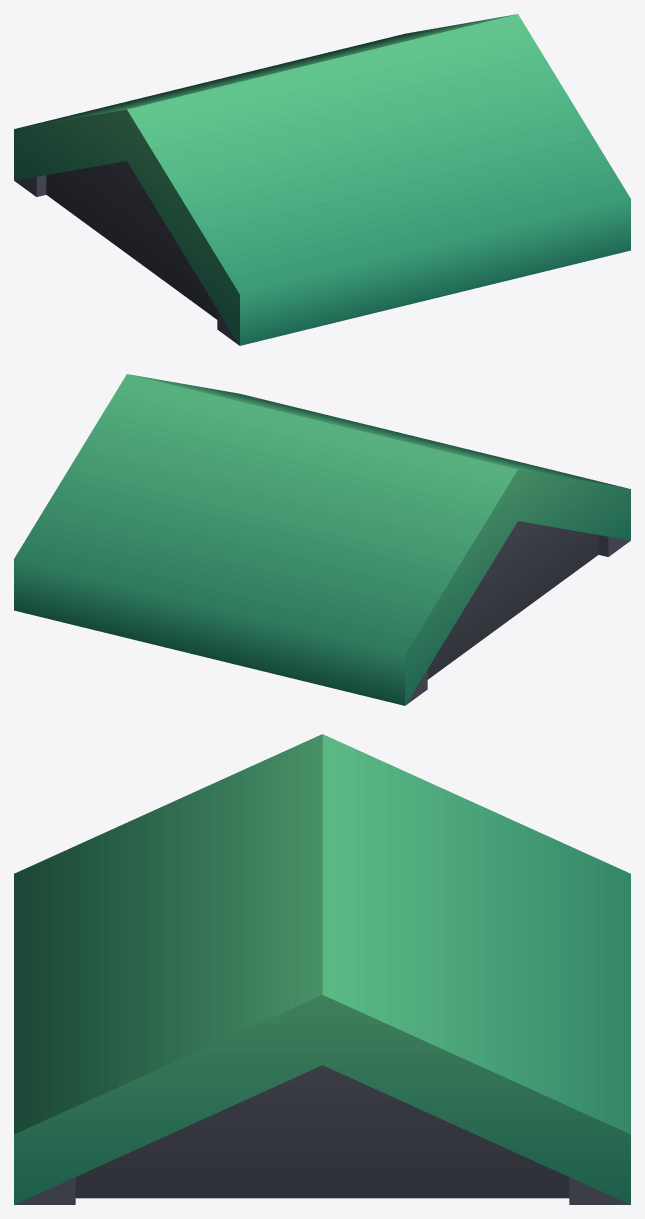
Rendered from roof-gable-top.glb.
The picture shows the model from 3 angles, top to bottom: view 1: azimuth 30°, elevation 25°; view 2: azimuth 150°, elevation 25°; view 3: azimuth 270°, elevation 25°; orthographic projection. The views are drawn at different scales.
Parts seen in each view (by area): view 1: roof-gable-top; view 2: roof-gable-top; view 3: roof-gable-top.
Boxes of the visible parts, <box> form: roof-gable-top: <box>14,14,630,345</box>; roof-gable-top: <box>14,374,630,705</box>; roof-gable-top: <box>14,734,630,1204</box>.
Bounding box in the file's own units: 1 × 0.3759 × 1.
1 material, 1 textured.
